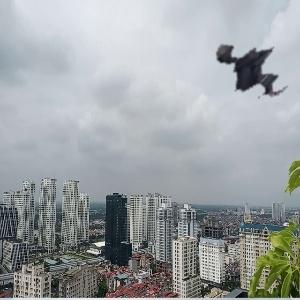drone: (196, 34, 289, 127)
